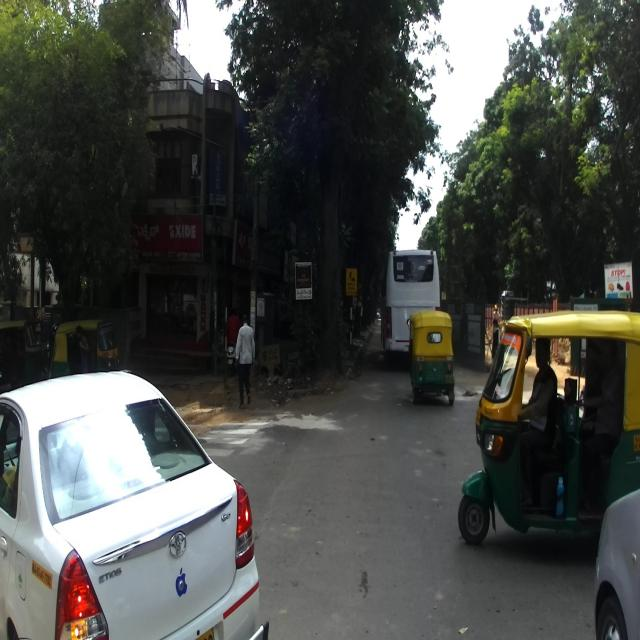autorickshaw: (458, 310, 640, 564), (0, 318, 49, 394)
bus: (379, 245, 440, 363)
car: (0, 370, 271, 639)
